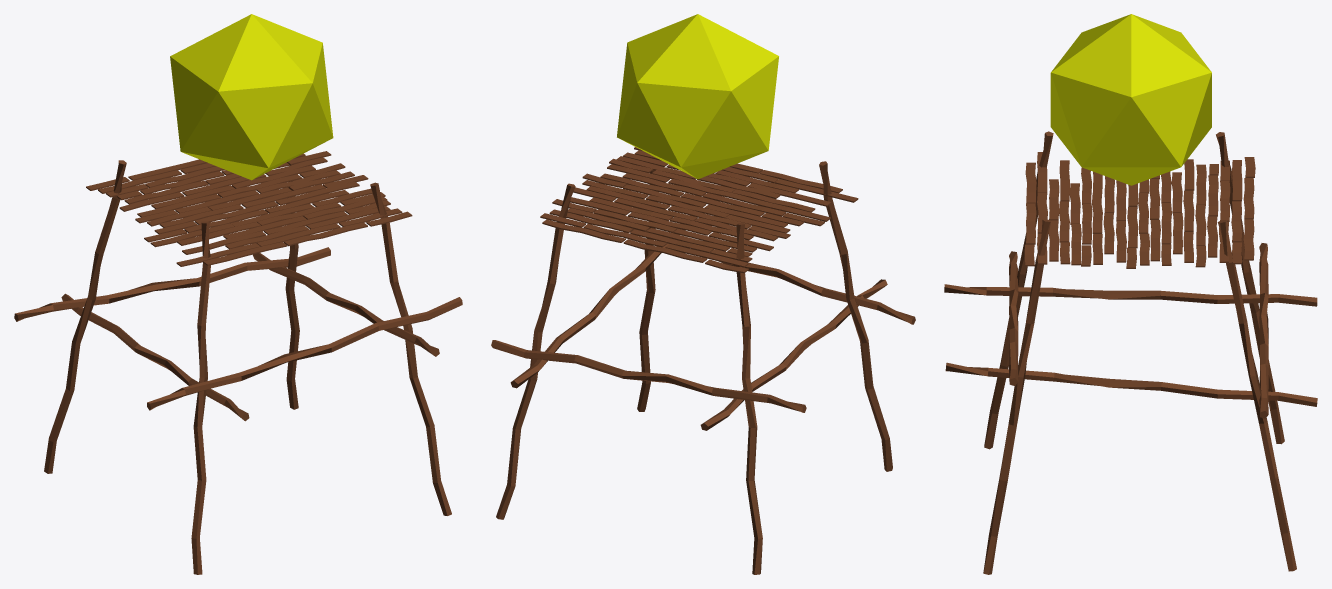
The model's file is Tower.glb.
The picture shows the model from 3 angles, left to right: view 1: azimuth 30°, elevation 25°; view 2: azimuth 150°, elevation 25°; view 3: azimuth 270°, elevation 25°; orthographic projection. The views are drawn at different scales.
Visible parts, largest first — view 1: Icosphere, Cylinder.005, Cylinder.008, Cylinder.006, Cylinder.004, Cylinder.009, Cylinder.007, Cylinder.001, Cylinder.003; view 2: Icosphere, Cylinder.006, Cylinder.009, Cylinder.005, Cylinder.003, Cylinder.007, Cylinder.001, Cylinder.008, Cylinder.004; view 3: Icosphere, Cylinder.004, Cylinder.001, Cylinder.007, Cylinder.003, Cylinder.005, Cylinder.006, Cylinder.009, Cylinder.008.
Boxes of the visible parts, x1=… form: Icosphere: x1=170, y1=14, x2=333, y2=180; Cylinder.005: x1=191, y1=221, x2=210, y2=574; Cylinder.008: x1=147, y1=297, x2=462, y2=410; Cylinder.006: x1=44, y1=160, x2=126, y2=473; Cylinder.004: x1=370, y1=182, x2=451, y2=515; Cylinder.009: x1=14, y1=247, x2=330, y2=321; Cylinder.007: x1=61, y1=293, x2=249, y2=421; Cylinder.001: x1=253, y1=253, x2=439, y2=356; Cylinder.003: x1=285, y1=164, x2=299, y2=409; Icosphere: x1=617, y1=14, x2=778, y2=179; Cylinder.006: x1=736, y1=223, x2=762, y2=574; Cylinder.009: x1=491, y1=340, x2=806, y2=412; Cylinder.005: x1=819, y1=161, x2=892, y2=471; Cylinder.003: x1=496, y1=183, x2=575, y2=519; Cylinder.007: x1=700, y1=279, x2=887, y2=430; Cylinder.001: x1=510, y1=228, x2=685, y2=388; Cylinder.008: x1=605, y1=216, x2=915, y2=324; Cylinder.004: x1=637, y1=170, x2=655, y2=411; Icosphere: x1=1050, y1=14, x2=1211, y2=185; Cylinder.004: x1=983, y1=219, x2=1050, y2=574; Cylinder.001: x1=945, y1=362, x2=1317, y2=406; Cylinder.007: x1=944, y1=284, x2=1317, y2=306; Cylinder.003: x1=1217, y1=220, x2=1296, y2=571; Cylinder.005: x1=984, y1=131, x2=1053, y2=449; Cylinder.006: x1=1216, y1=132, x2=1284, y2=444; Cylinder.009: x1=1259, y1=243, x2=1268, y2=418; Cylinder.008: x1=1009, y1=251, x2=1018, y2=385.
Size of the model in its own units: 4.07 by 5.78 by 3.94.
